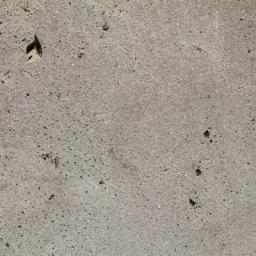FOD: (22, 37, 47, 63)
